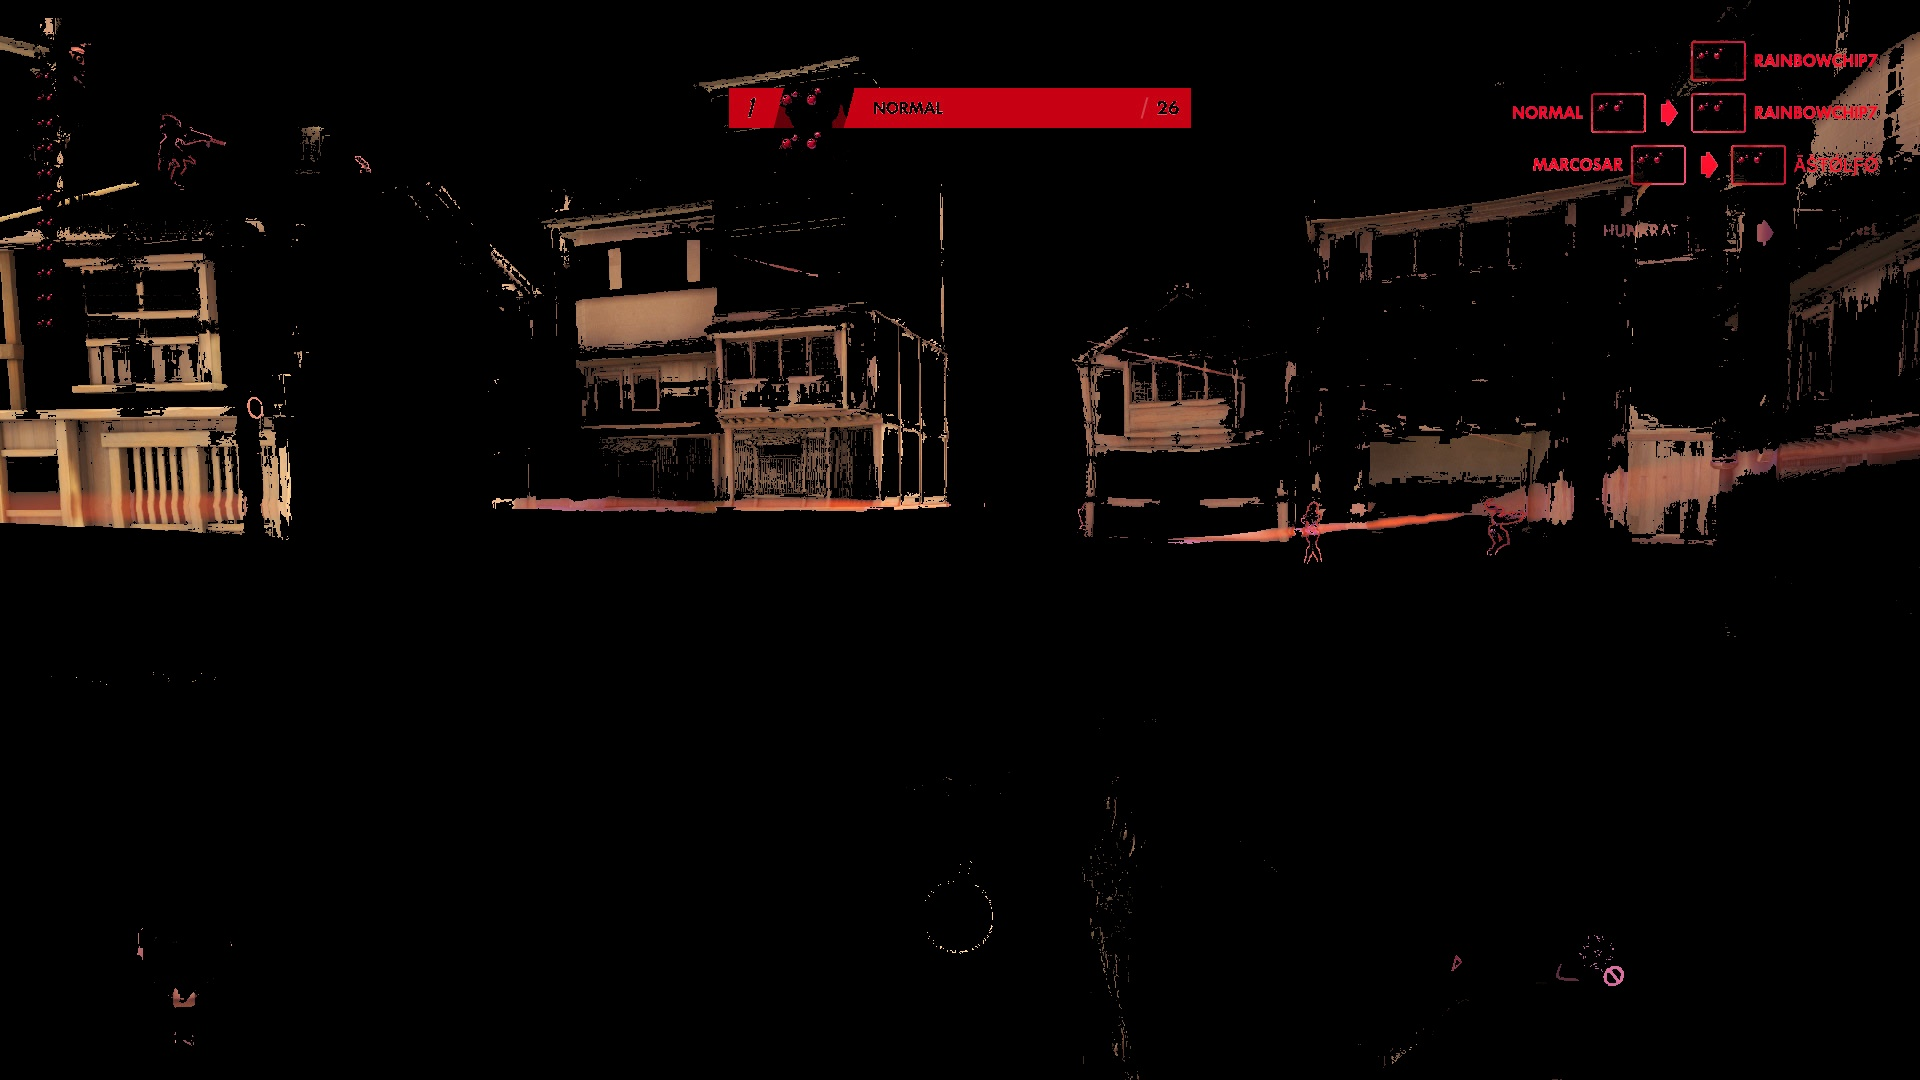widowmaker: (1291, 496, 1332, 579), (1481, 498, 1526, 563)
